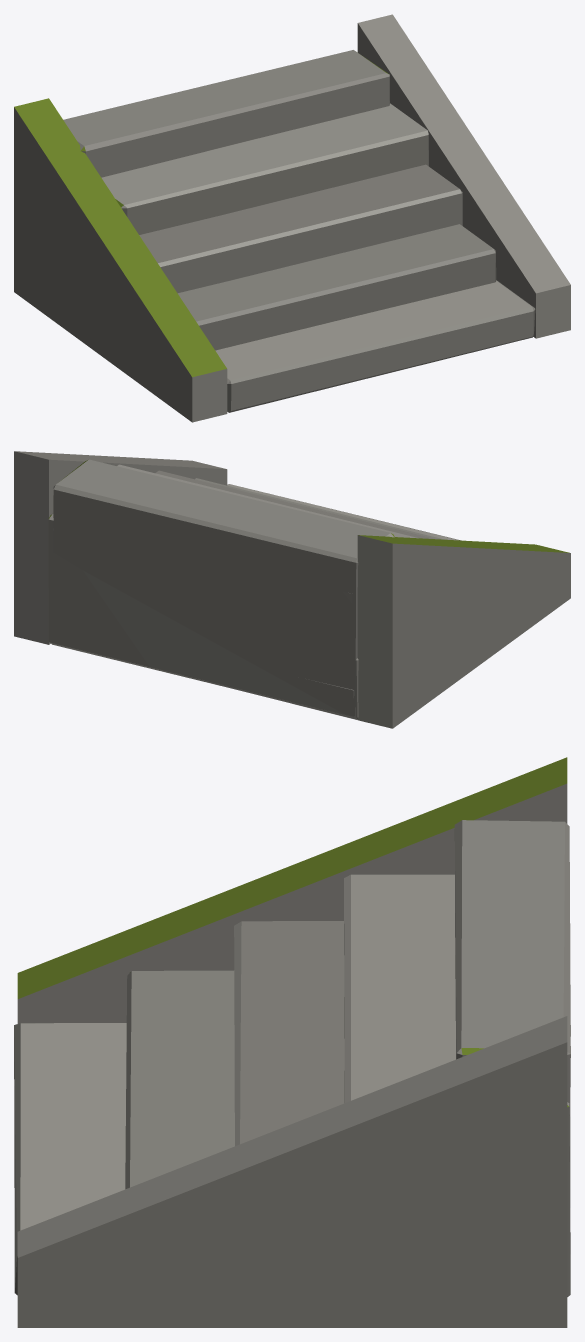
Rendered from zen_temple_steps.glb.
3 renders of one model, top to bottom at view 1: azimuth 30°, elevation 25°; view 2: azimuth 150°, elevation 25°; view 3: azimuth 270°, elevation 25°, orthographic. The views are drawn at different scales.
Parts seen in each view (by area): view 1: zen_temple_steps; view 2: zen_temple_steps; view 3: zen_temple_steps.
Part boxes in pixels (x1=…): zen_temple_steps: x1=14, y1=14, x2=570, y2=422; zen_temple_steps: x1=14, y1=451, x2=570, y2=728; zen_temple_steps: x1=14, y1=757, x2=570, y2=1327.
Size of the model in its own units: 3.68 by 1.73 by 3.04.
